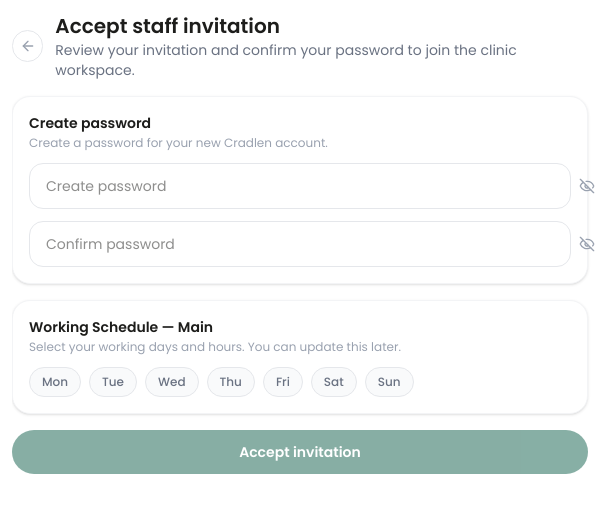
Test: AcceptStep (StaffInviteAcceptStep) › disables submit until the password is valid and matching
The image size is (612, 519).
Expected: the button "Accept invitation" is disabled, [12,430,588,474]
Type "short" into the password field with placeholder "Create password" at (300, 186), box [29,163,571,209]
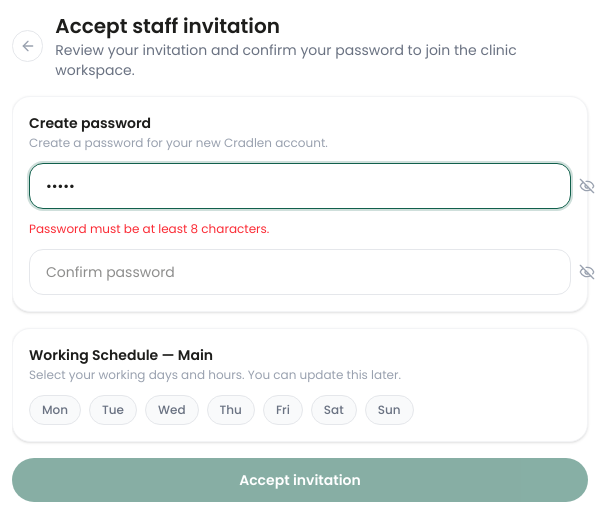
Expected: the button "Accept invitation" is disabled, [12,458,588,502]
Now the text "Password must be at least 8 characters." is shown, box [29,220,269,237]
Type "password123" into the password field with placeholder "Create password" at (300, 186), box [29,163,571,209]
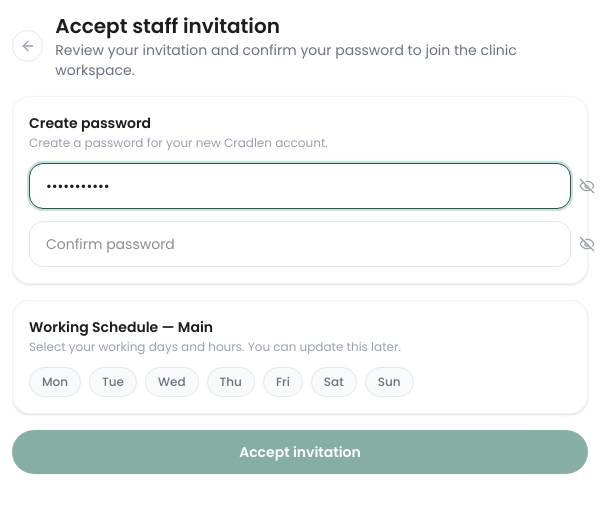
Type "different" into the password field with placeholder "Confirm password" at (300, 244), box [29,221,571,267]
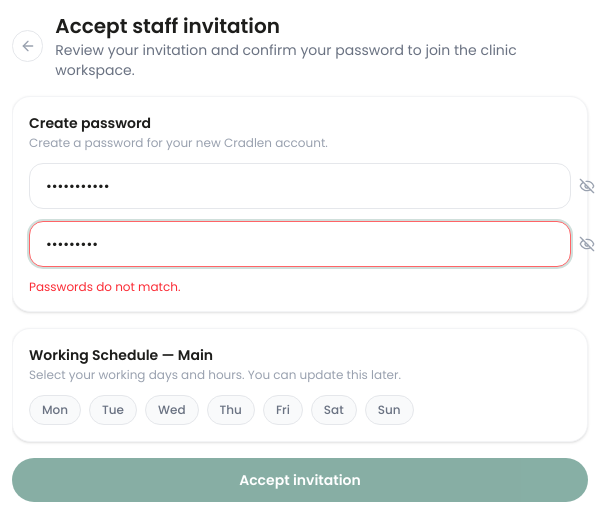
Expected: the button "Accept invitation" is disabled, [12,458,588,502]
Now the text "Passwords do not match." is shown, box [29,278,180,295]
